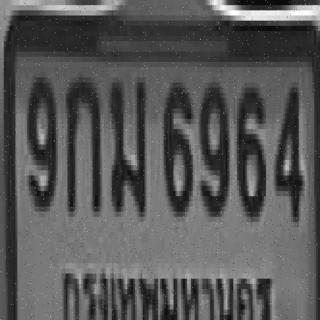A01: (64, 72, 100, 212)
A33: (108, 72, 145, 212)
N04: (274, 83, 301, 217)
N06: (162, 77, 191, 212), (235, 82, 264, 212)
N09: (198, 77, 228, 212), (25, 72, 54, 206)
P04: (58, 258, 282, 320)
